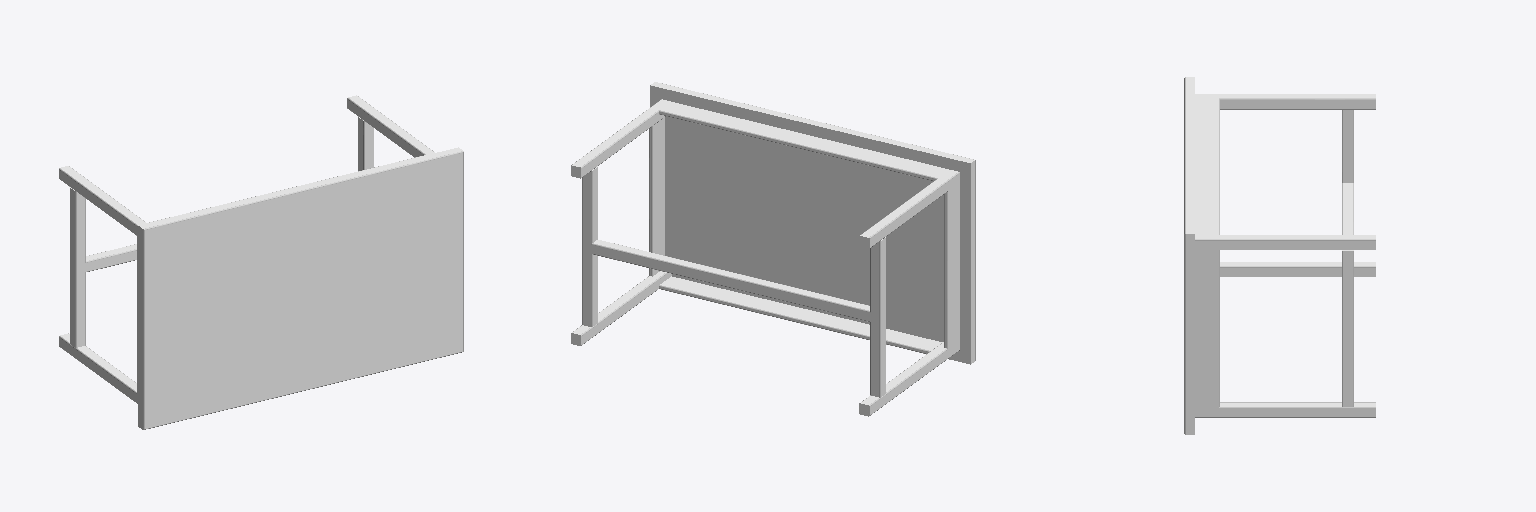
The model's file is table.obj.
3 views of the same model, side by side, from view 1: azimuth 30°, elevation 25°; view 2: azimuth 150°, elevation 25°; view 3: azimuth 270°, elevation 25° (orthographic).
Visible parts, largest first — view 1: obj1; view 2: obj1; view 3: obj1.
Boxes of the visible parts, x1=… form: obj1: x1=59, y1=95, x2=463, y2=429; obj1: x1=571, y1=82, x2=975, y2=416; obj1: x1=1184, y1=77, x2=1375, y2=434.
Bounding box in the file's own units: 1524 × 914 × 787.